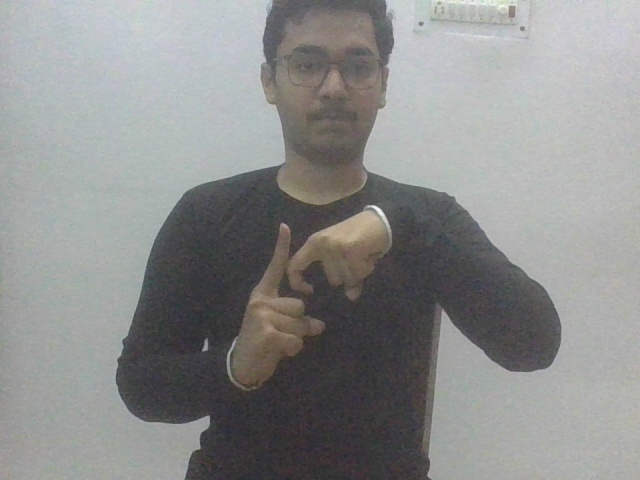K: (231, 202, 396, 392)
